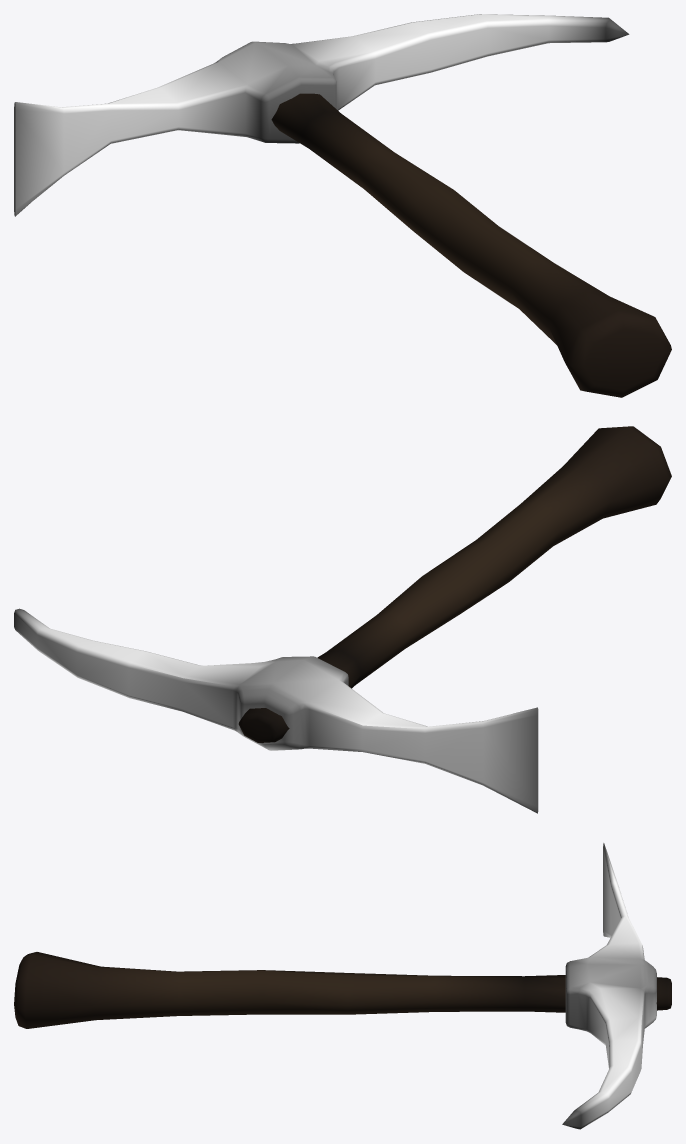
Rendered from Pickaxe.fbx.
The picture shows the model from 3 angles, top to bottom: view 1: azimuth 30°, elevation 25°; view 2: azimuth 150°, elevation 25°; view 3: azimuth 270°, elevation 25°; orthographic projection. The views are drawn at different scales.
Visible parts, largest first — view 1: Pickaxe; view 2: Pickaxe; view 3: Pickaxe.
Boxes of the visible parts, x1,y1,x2,y2 form: Pickaxe: (14,14,671,397); Pickaxe: (14,426,671,813); Pickaxe: (14,843,671,1129).
Size of the model in its own units: 96.23 by 17.95 by 114.
